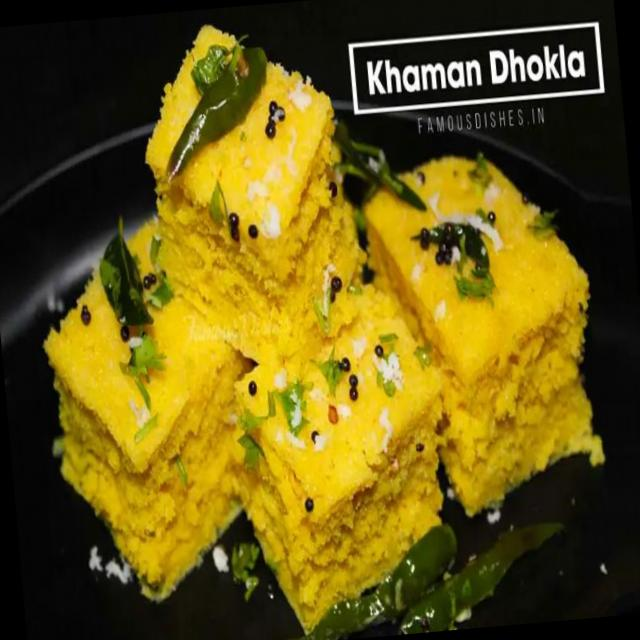dhokla: (2, 0, 626, 640)
